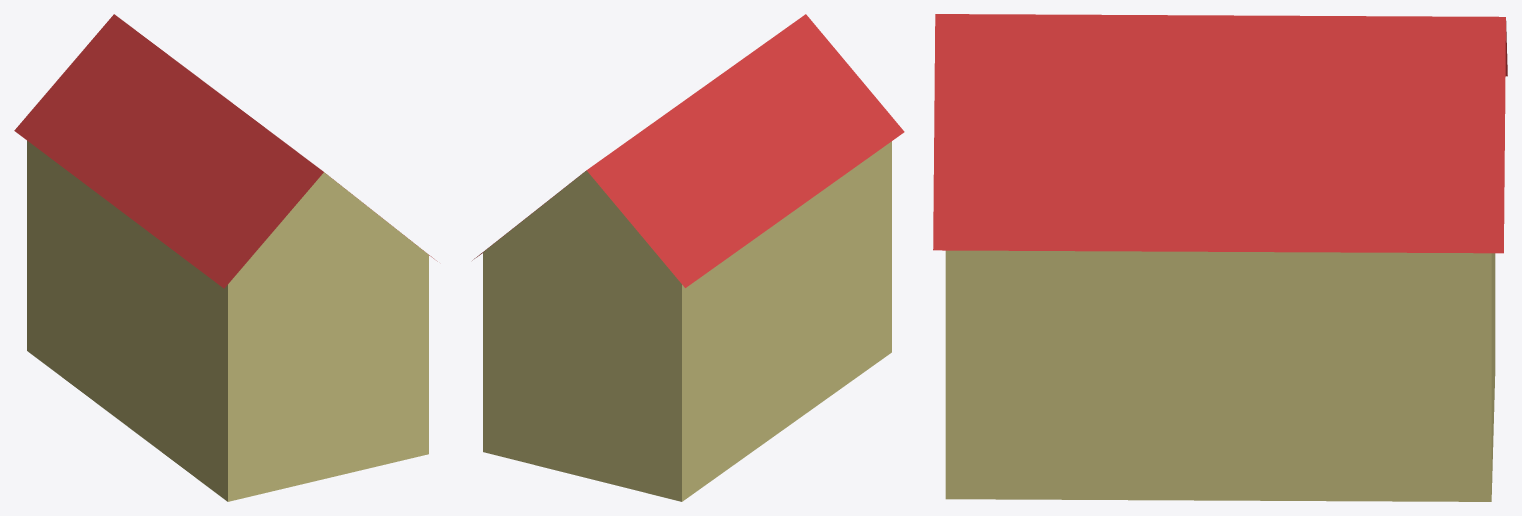
The picture shows the model from 3 angles, left to right: view 1: azimuth 30°, elevation 25°; view 2: azimuth 150°, elevation 25°; view 3: azimuth 270°, elevation 25°; orthographic projection. The views are drawn at different scales.
Bounding box in the file's own units: 13.63 × 23.12 × 18.4.
